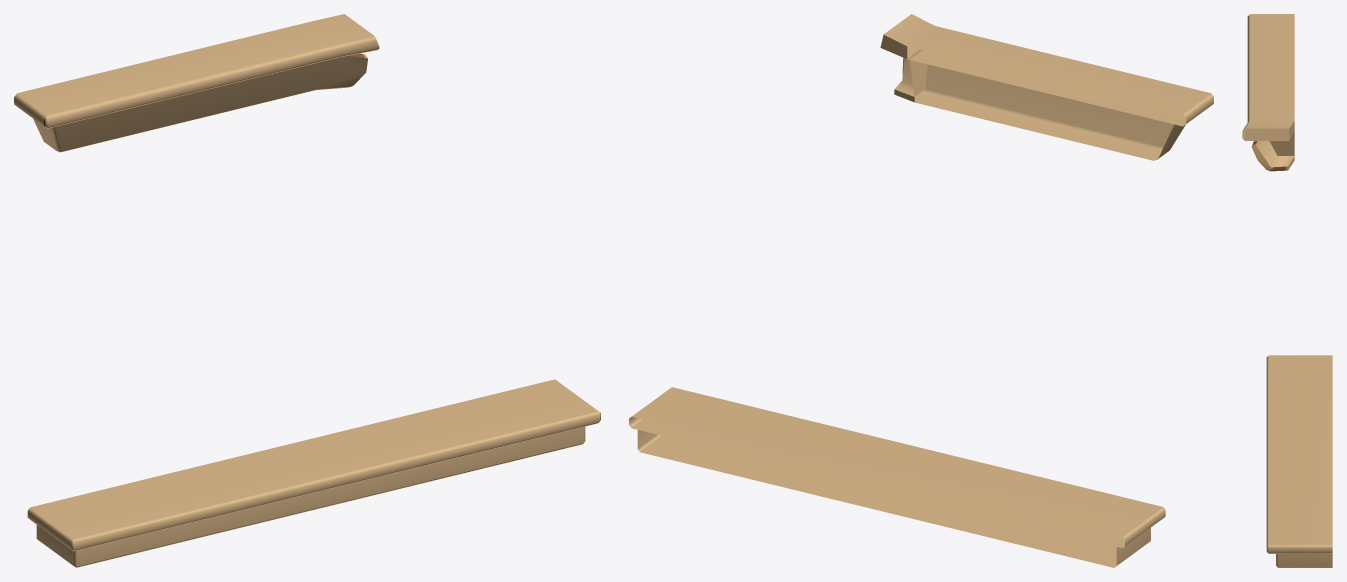
Rendered from DBK_WinWide_Trim_E_90.fbx.
3 renders of one model, left to right at view 1: azimuth 30°, elevation 25°; view 2: azimuth 150°, elevation 25°; view 3: azimuth 270°, elevation 25°, orthographic. The views are drawn at different scales.
Visible parts, largest first — view 1: DBK_WinWide_Trim_E_90; view 2: DBK_WinWide_Trim_E_90; view 3: DBK_WinWide_Trim_E_90.
Part boxes in pixels (box(x1,y1,x2,y2)): DBK_WinWide_Trim_E_90: box(14, 14, 600, 567); DBK_WinWide_Trim_E_90: box(629, 14, 1213, 567); DBK_WinWide_Trim_E_90: box(1242, 14, 1332, 567).
Size of the model in its own units: 195 by 158 by 36.3.
